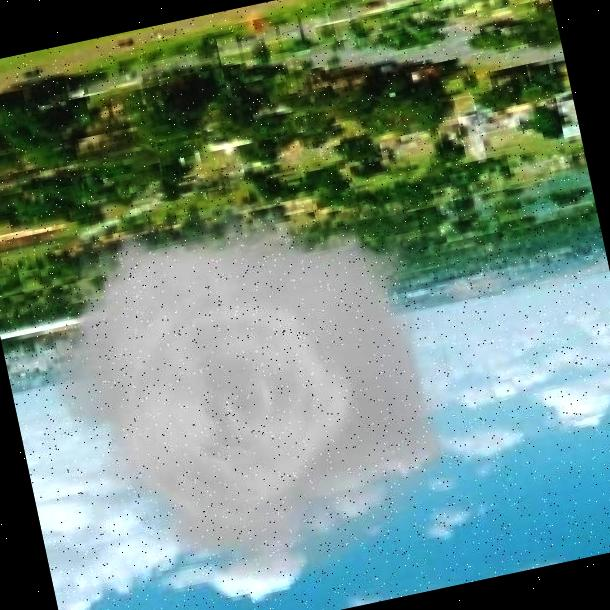smoke: (12, 190, 451, 585)
